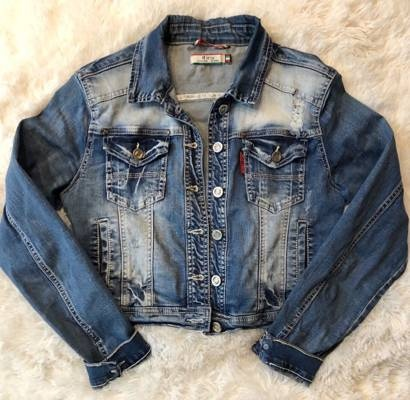Blazer: (1, 16, 406, 377)
